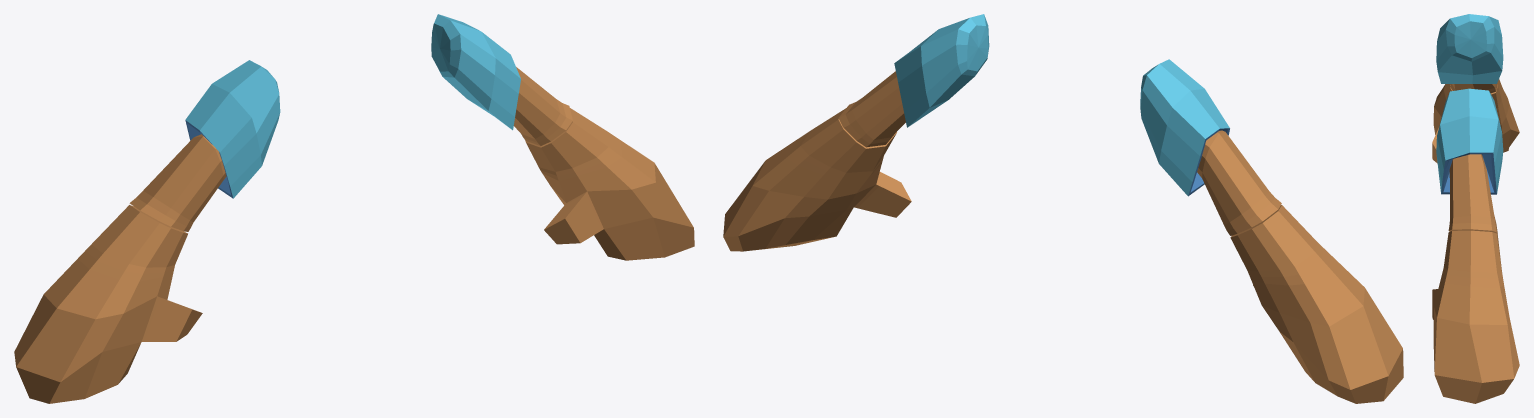
The model's file is Arms.fbx.
The picture shows the model from 3 angles, left to right: view 1: azimuth 30°, elevation 25°; view 2: azimuth 150°, elevation 25°; view 3: azimuth 270°, elevation 25°; orthographic projection. The views are drawn at different scales.
Parts seen in each view (by area): view 1: LowerArm.L, LowerArm.R, UpperArm.L, UpperArm.R; view 2: LowerArm.L, LowerArm.R, UpperArm.L, UpperArm.R; view 3: LowerArm.R, UpperArm.R, UpperArm.L, LowerArm.L.
Boxes of the visible parts, <box> form: LowerArm.L: <box>14,205,202,403</box>; LowerArm.R: <box>525,108,694,260</box>; UpperArm.L: <box>129,60,280,231</box>; UpperArm.R: <box>431,14,572,145</box>; LowerArm.L: <box>1230,205,1403,403</box>; LowerArm.R: <box>723,108,911,251</box>; UpperArm.L: <box>1140,59,1281,235</box>; UpperArm.R: <box>838,14,989,147</box>; LowerArm.R: <box>1432,230,1519,403</box>; UpperArm.R: <box>1436,88,1503,234</box>; UpperArm.L: <box>1436,14,1503,93</box>; LowerArm.L: <box>1432,79,1519,163</box>.
Bounding box in the file's own units: 51.24 × 362 × 145.
